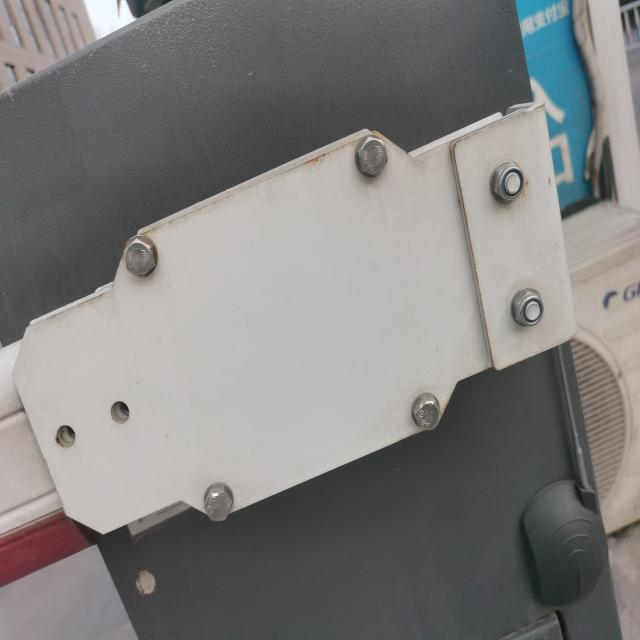bolt head: (122, 235, 158, 279), (356, 134, 388, 179), (412, 395, 443, 432), (203, 484, 233, 522)
bolt nut: (492, 159, 526, 206), (512, 288, 544, 328)
